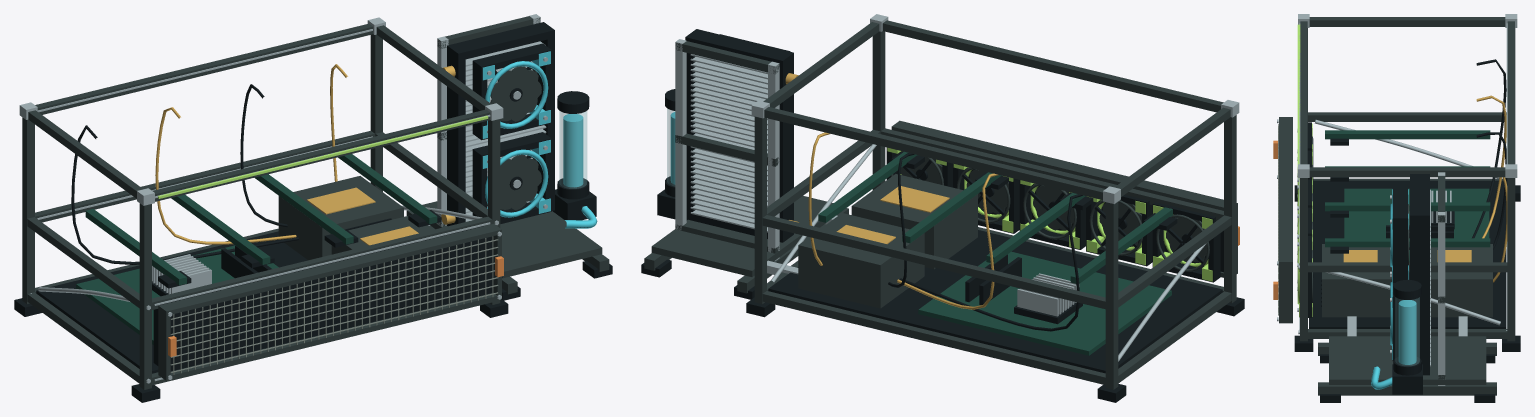
The model's file is rig-gameplay-carbon-liquid.glb.
3 views of the same model, side by side, from view 1: azimuth 30°, elevation 25°; view 2: azimuth 150°, elevation 25°; view 3: azimuth 270°, elevation 25° (orthographic). The views are drawn at different scales.
Visible parts, largest first — view 1: Anodized graphite (×5), Rubber and ABS (×5), filter-carbon, Brushed aluminium (×2), Filter fibres, Circuit board, Coolant blue (×3), cooling-liquid, Contacts, rig-gameplay-carbon-liquid, slot-cable-1, slot-cable-2 (+1 smaller); view 2: Anodized graphite (×7), Rubber and ABS (×7), Brushed aluminium (×2), Circuit board, Contacts, Lime accents (×2), slot-cable-1, slot-cable-2, cooling-liquid; view 3: Anodized graphite (×3), Rubber and ABS (×6), Circuit board, Brushed aluminium (×2), Coolant blue (×2), cooling-liquid, Contacts, slot-cable-1, slot-cable-2, rig-gameplay-carbon-liquid, slot-cable-3, slot-cable-4.
Part boxes in pixels (left/top/right/bottom): Anodized graphite (×5): left=22, top=16, right=609, bottom=389; Rubber and ABS (×5): left=14, top=22, right=612, bottom=402; filter-carbon: left=170, top=236, right=493, bottom=371; Brushed aluminium (×2): left=19, top=14, right=546, bottom=383; Filter fibres: left=170, top=236, right=498, bottom=374; Circuit board: left=76, top=154, right=437, bottom=344; Coolant blue (×3): left=482, top=51, right=597, bottom=228; cooling-liquid: left=559, top=111, right=586, bottom=188; Contacts: left=307, top=187, right=418, bottom=245; rig-gameplay-carbon-liquid: left=158, top=115, right=488, bottom=198; slot-cable-1: left=71, top=125, right=298, bottom=264; slot-cable-2: left=155, top=107, right=296, bottom=244; Anodized graphite (×7): left=644, top=20, right=1237, bottom=389; Rubber and ABS (×7): left=641, top=29, right=1244, bottom=402; Brushed aluminium (×2): left=675, top=14, right=1239, bottom=361; Circuit board: left=818, top=151, right=1172, bottom=355; Contacts: left=836, top=186, right=949, bottom=244; Lime accents (×2): left=1086, top=196, right=1212, bottom=281; slot-cable-1: left=899, top=194, right=1082, bottom=331; slot-cable-2: left=897, top=173, right=998, bottom=309; cooling-liquid: left=667, top=108, right=674, bottom=186; Anodized graphite (×3): left=1279, top=17, right=1515, bottom=395; Rubber and ABS (×6): left=1294, top=138, right=1520, bottom=402; Circuit board: left=1325, top=130, right=1490, bottom=262; Brushed aluminium (×2): left=1298, top=14, right=1517, bottom=385; Coolant blue (×2): left=1371, top=189, right=1416, bottom=389; cooling-liquid: left=1395, top=297, right=1419, bottom=365; Contacts: left=1343, top=250, right=1471, bottom=262; slot-cable-1: left=1472, top=59, right=1506, bottom=238; slot-cable-2: left=1476, top=95, right=1506, bottom=238; rig-gameplay-carbon-liquid: left=1297, top=24, right=1300, bottom=168; slot-cable-3: left=1476, top=132, right=1507, bottom=249; slot-cable-4: left=1493, top=177, right=1507, bottom=282.
Size of the model in its own units: 8.43 by 3.32 by 4.01.
